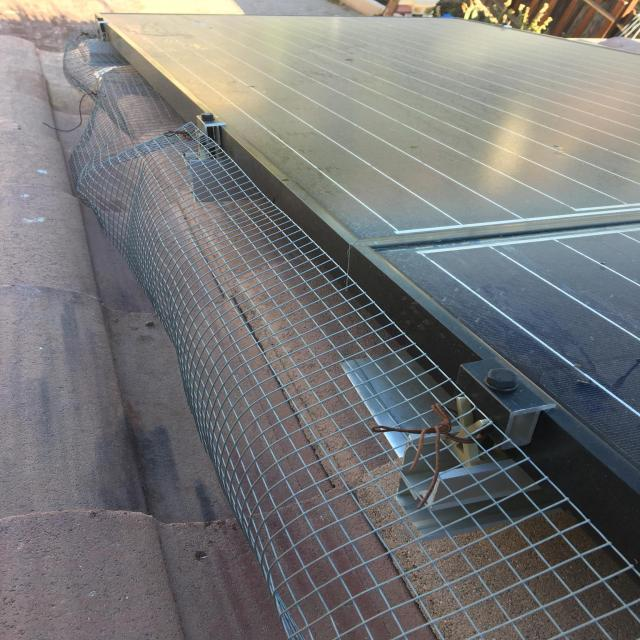dust-solar-panel: (94, 13, 635, 487)
